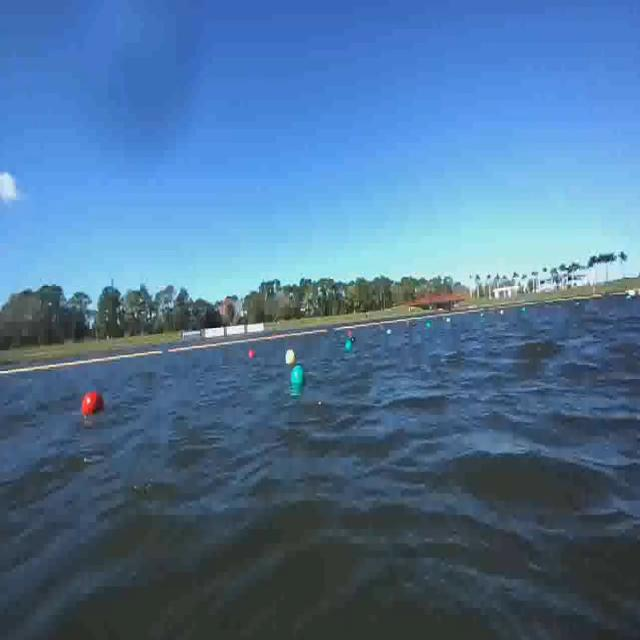green-buoy: (291, 363, 306, 386), (346, 340, 354, 354)
red-buoy: (82, 393, 105, 417), (249, 349, 255, 358)
yellow-buoy: (281, 347, 296, 368)
